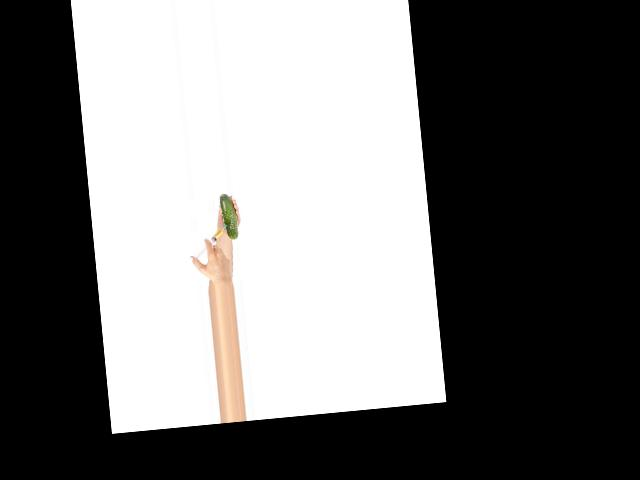cucumber: (219, 192, 238, 239)
